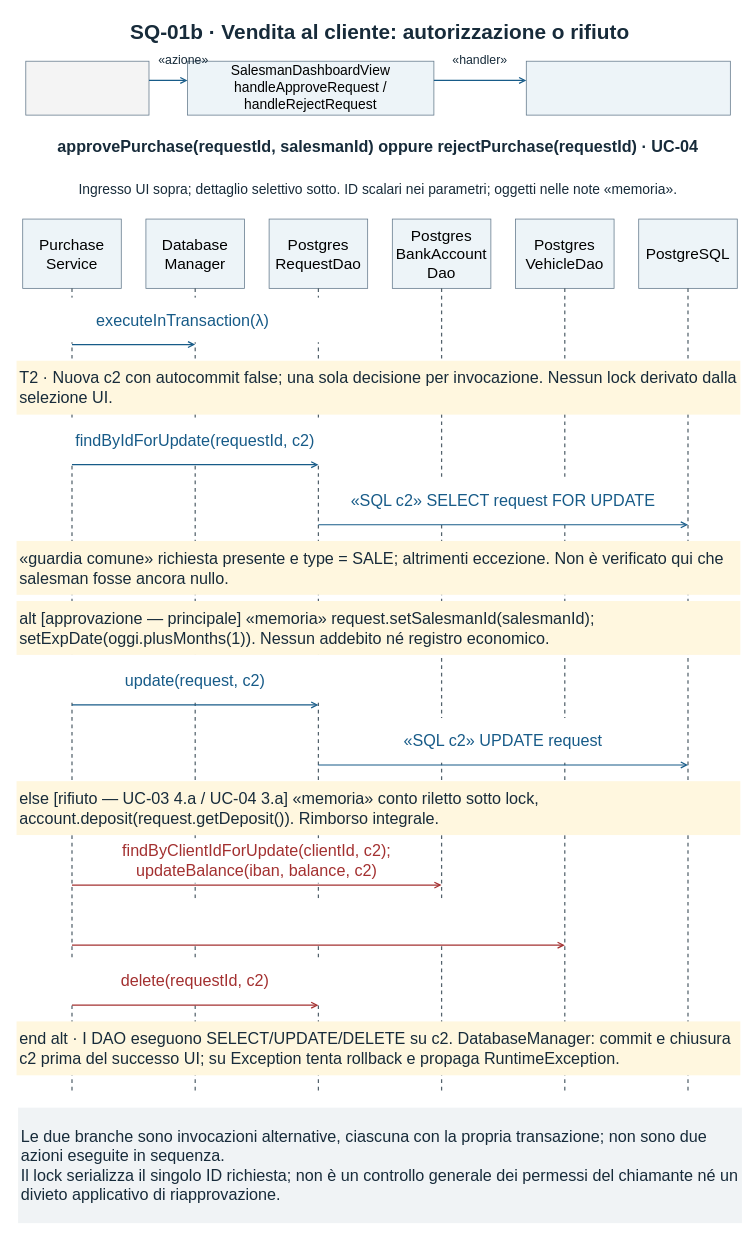
Some shapes in this 755 by 1236 pixel diagram are drawn without their labels. Here are the shapes that lost their labels. From the top down, the box of each, then its label:
(25, 60, 149, 115): Venditore: decide
(526, 60, 730, 115): PurchaseService
(75, 898, 561, 942): updateStateAtomically(vehicleId, BLOCKED, SALE, c2)
